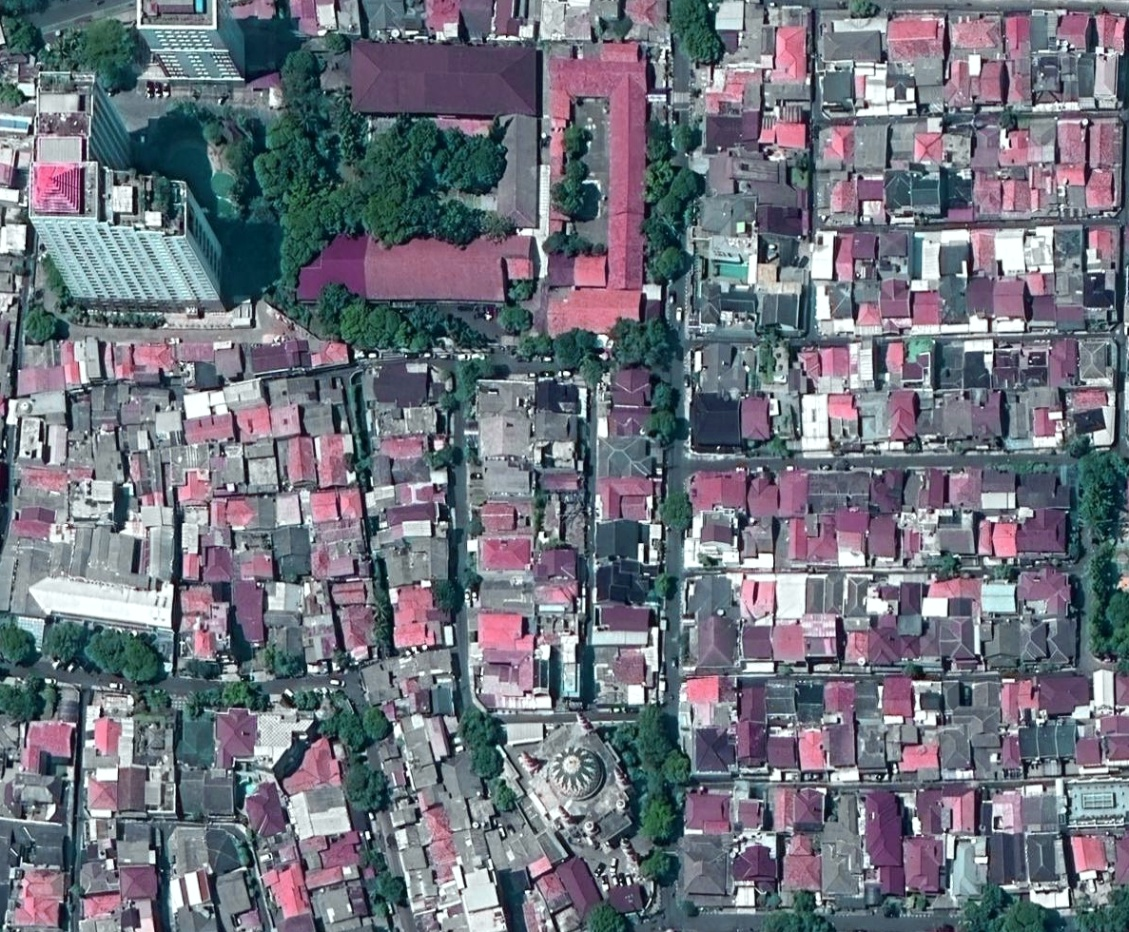building: (0, 28, 246, 366), (545, 43, 644, 290), (286, 222, 539, 315), (506, 709, 653, 865), (398, 817, 527, 932), (348, 44, 536, 115), (25, 566, 178, 629), (135, 1, 244, 81), (213, 690, 318, 771), (701, 147, 815, 215), (297, 830, 373, 931), (107, 381, 188, 463), (478, 811, 554, 892), (539, 736, 617, 813), (69, 525, 158, 592), (499, 724, 623, 771), (0, 537, 71, 619), (376, 518, 454, 589), (0, 817, 67, 895), (80, 681, 134, 773), (498, 116, 540, 228), (543, 290, 641, 338), (304, 519, 373, 587), (391, 585, 457, 654), (125, 695, 181, 775), (284, 782, 353, 846), (274, 736, 343, 797), (592, 647, 655, 711), (286, 372, 345, 437), (9, 867, 67, 932), (553, 853, 609, 920), (363, 362, 446, 407), (470, 650, 533, 708), (298, 578, 338, 669), (951, 682, 1002, 752), (176, 389, 238, 446), (884, 10, 945, 67), (237, 778, 291, 842), (676, 847, 733, 907), (678, 675, 740, 730), (819, 798, 863, 875), (693, 343, 758, 395), (456, 867, 508, 932), (695, 278, 758, 331), (978, 616, 1049, 663), (817, 10, 882, 61), (223, 382, 274, 447), (1003, 392, 1058, 451), (261, 861, 314, 922), (263, 582, 304, 660), (10, 341, 67, 397), (179, 602, 233, 661), (16, 718, 76, 771), (0, 772, 63, 822), (590, 563, 658, 609), (201, 819, 254, 877), (433, 749, 485, 808), (179, 768, 235, 822), (863, 792, 903, 867), (729, 836, 779, 896), (390, 648, 456, 693), (686, 512, 739, 568), (1066, 392, 1117, 450), (758, 28, 808, 87), (758, 100, 811, 154), (689, 393, 739, 450), (807, 470, 873, 513), (65, 479, 119, 531), (164, 821, 211, 880), (395, 714, 436, 779), (592, 478, 651, 523), (1025, 833, 1068, 894), (778, 835, 822, 894), (687, 472, 747, 515), (371, 405, 440, 442), (312, 433, 356, 491), (683, 791, 736, 839), (1014, 512, 1070, 557), (174, 709, 214, 772), (248, 338, 311, 378), (948, 835, 986, 901), (477, 417, 531, 463), (472, 381, 534, 421), (699, 193, 752, 239), (596, 523, 660, 561), (264, 378, 302, 442), (480, 458, 535, 502), (945, 10, 1001, 53), (597, 436, 653, 479), (18, 465, 94, 496), (1018, 573, 1074, 615), (589, 609, 654, 645), (476, 613, 534, 653), (232, 580, 266, 647), (689, 729, 736, 777), (904, 839, 944, 895), (416, 709, 456, 765), (912, 64, 954, 117), (272, 527, 311, 584), (533, 377, 587, 418), (682, 575, 732, 619), (114, 818, 157, 869), (810, 231, 851, 284), (140, 526, 176, 586), (476, 575, 534, 612), (733, 575, 778, 622), (1021, 785, 1066, 832), (357, 660, 402, 707), (228, 533, 273, 580), (1037, 677, 1091, 716), (213, 868, 255, 918), (814, 281, 852, 336), (476, 536, 531, 574), (1016, 473, 1072, 510), (757, 286, 801, 333), (989, 834, 1027, 888), (814, 125, 854, 176), (363, 1, 421, 36), (531, 822, 574, 869), (571, 249, 613, 297), (821, 844, 859, 897), (339, 603, 379, 653), (752, 206, 809, 241), (241, 443, 280, 494), (1029, 394, 1062, 454), (478, 500, 533, 536), (896, 735, 939, 781), (195, 498, 232, 551), (909, 118, 944, 174), (783, 349, 824, 396), (870, 628, 919, 667), (992, 278, 1026, 333), (279, 437, 314, 490), (1085, 118, 1122, 168), (855, 723, 888, 779), (291, 738, 347, 771), (933, 598, 974, 643), (1054, 272, 1086, 329), (824, 726, 857, 781), (167, 445, 209, 488), (76, 857, 120, 898), (130, 343, 175, 383), (1044, 615, 1082, 662), (289, 0, 336, 38), (817, 180, 854, 228), (492, 2, 540, 39), (1080, 337, 1116, 386), (970, 62, 1006, 111), (77, 893, 122, 932), (699, 620, 734, 670), (1086, 269, 1120, 320), (853, 122, 889, 170), (853, 66, 889, 114), (736, 723, 768, 777), (1069, 834, 1109, 877), (624, 1, 668, 40), (1002, 679, 1035, 731), (937, 724, 972, 773), (1046, 340, 1080, 390), (900, 343, 933, 394), (1051, 11, 1092, 52), (973, 397, 1003, 453), (208, 444, 242, 493), (533, 547, 578, 584), (1025, 271, 1053, 330), (857, 395, 890, 445), (764, 724, 797, 774), (914, 397, 945, 450), (961, 342, 993, 393), (909, 171, 944, 217), (801, 398, 830, 453), (94, 432, 123, 487), (879, 677, 916, 720), (837, 516, 869, 565), (804, 613, 838, 659), (943, 790, 977, 836), (609, 370, 651, 407), (970, 120, 1001, 170), (742, 519, 773, 569), (941, 62, 972, 112), (17, 388, 67, 419), (841, 618, 871, 669), (53, 337, 83, 388), (876, 284, 907, 333), (972, 172, 1004, 219), (805, 516, 835, 566), (227, 497, 271, 531), (817, 347, 848, 395), (944, 396, 970, 453), (908, 284, 937, 335), (934, 519, 975, 555), (327, 578, 373, 610), (818, 70, 853, 112), (878, 234, 908, 283), (888, 394, 918, 443), (939, 620, 974, 662), (870, 469, 903, 513), (1031, 58, 1060, 108), (458, 1, 496, 39), (939, 231, 969, 279), (1000, 124, 1032, 169), (884, 68, 916, 113), (390, 459, 450, 483), (118, 865, 158, 901), (1084, 169, 1119, 210), (850, 283, 877, 336), (1028, 166, 1056, 217), (1018, 341, 1047, 390), (989, 792, 1022, 835), (830, 396, 860, 443), (912, 685, 942, 732), (1065, 58, 1092, 110), (738, 624, 773, 664), (848, 343, 876, 393), (823, 682, 854, 727), (915, 791, 944, 839), (948, 469, 981, 511), (866, 518, 899, 560), (1053, 224, 1083, 270), (940, 282, 968, 331), (776, 474, 807, 518), (851, 681, 882, 725), (996, 228, 1025, 275), (943, 173, 972, 220), (771, 625, 805, 665), (763, 679, 796, 720), (307, 338, 348, 371), (117, 766, 147, 811), (910, 232, 938, 280), (1059, 121, 1088, 167), (876, 344, 903, 393), (424, 2, 457, 42), (379, 439, 436, 462), (1095, 53, 1120, 105), (1005, 60, 1031, 110), (533, 581, 581, 608), (792, 789, 827, 826), (1085, 226, 1119, 264), (590, 1, 622, 41), (1024, 226, 1053, 270), (533, 416, 582, 442), (396, 484, 445, 510), (86, 777, 117, 818), (849, 234, 876, 281), (383, 505, 438, 528), (739, 399, 769, 441), (797, 731, 825, 776), (175, 474, 213, 507), (197, 549, 235, 582), (968, 279, 992, 331), (88, 385, 117, 428), (882, 173, 913, 213), (796, 684, 824, 728), (737, 685, 765, 729), (704, 116, 741, 149), (924, 578, 977, 601), (606, 885, 644, 917), (993, 345, 1019, 391), (889, 124, 915, 170), (943, 125, 970, 169), (386, 799, 422, 832), (120, 899, 156, 932), (979, 581, 1016, 613), (334, 1, 365, 39), (736, 798, 767, 836), (182, 870, 212, 909), (775, 578, 802, 621), (747, 477, 776, 517), (274, 490, 303, 530), (54, 684, 83, 724), (972, 230, 997, 276), (771, 790, 796, 836), (1029, 122, 1057, 163), (16, 417, 42, 461), (856, 178, 883, 220), (45, 425, 72, 467), (938, 346, 962, 393), (1097, 14, 1126, 52), (919, 468, 944, 512), (884, 728, 915, 763), (565, 1, 592, 41), (74, 338, 98, 383), (173, 908, 218, 932), (990, 524, 1019, 561), (824, 573, 847, 619), (414, 782, 448, 813), (108, 342, 134, 382), (540, 2, 567, 40), (398, 842, 429, 875), (896, 581, 925, 616), (428, 679, 454, 718), (183, 585, 215, 616), (408, 761, 440, 792), (309, 490, 338, 524), (1006, 17, 1030, 57), (1029, 12, 1053, 52), (466, 795, 495, 828), (377, 742, 404, 777), (446, 797, 472, 833), (1091, 669, 1112, 713), (171, 345, 215, 366), (787, 518, 807, 564), (336, 487, 363, 521), (1003, 180, 1029, 215), (998, 737, 1021, 776), (66, 395, 89, 434), (367, 456, 395, 488), (65, 437, 91, 471), (547, 259, 576, 289), (848, 575, 869, 616), (215, 346, 241, 379), (1077, 740, 1106, 769), (137, 505, 172, 529), (877, 869, 905, 898), (1055, 725, 1078, 760), (979, 468, 1015, 490), (892, 615, 925, 639), (805, 576, 823, 619), (278, 912, 316, 932), (1035, 726, 1057, 760), (1113, 839, 1128, 887), (1106, 737, 1129, 767), (941, 682, 963, 713), (1018, 728, 1038, 761), (973, 754, 997, 781), (89, 819, 114, 844), (438, 753, 471, 771), (1101, 715, 1129, 736), (920, 636, 941, 664), (621, 499, 648, 520), (1114, 676, 1129, 713), (145, 781, 164, 810), (1057, 166, 1084, 184), (393, 828, 411, 851)
tree: (228, 107, 334, 219), (80, 621, 172, 693), (428, 128, 508, 202), (277, 176, 332, 283), (357, 115, 435, 190), (72, 14, 141, 93), (356, 185, 438, 248), (336, 301, 429, 356), (453, 704, 511, 782), (666, 0, 728, 71), (310, 180, 375, 247), (309, 87, 365, 164), (649, 167, 708, 230), (275, 47, 326, 116), (608, 317, 674, 367), (547, 157, 600, 219), (441, 347, 496, 406), (549, 328, 603, 387), (315, 709, 369, 764), (0, 675, 52, 728), (340, 760, 390, 815), (33, 31, 88, 80), (432, 198, 483, 250), (1074, 447, 1129, 494), (1071, 890, 1129, 932), (642, 241, 690, 289), (631, 706, 668, 766), (204, 168, 253, 213), (633, 795, 677, 845), (311, 282, 350, 338), (437, 311, 484, 357), (255, 645, 307, 685), (16, 305, 63, 347), (478, 775, 522, 819), (635, 848, 678, 891), (36, 255, 70, 307), (45, 622, 87, 664), (996, 901, 1051, 932), (356, 706, 396, 748), (641, 406, 682, 446), (972, 881, 1013, 921), (657, 747, 696, 788), (1, 20, 42, 57), (220, 137, 258, 176), (642, 158, 673, 205), (543, 232, 595, 260), (370, 583, 394, 642), (1076, 509, 1113, 546), (238, 193, 276, 229), (406, 302, 445, 337), (654, 494, 689, 533), (764, 912, 834, 931), (644, 380, 680, 415), (222, 682, 267, 710), (261, 281, 299, 314), (1079, 566, 1114, 601), (0, 629, 34, 664), (284, 301, 322, 332), (642, 122, 670, 163), (959, 903, 998, 932), (586, 904, 626, 932), (642, 216, 669, 257), (478, 209, 512, 241), (375, 872, 404, 909), (495, 306, 534, 333), (0, 77, 29, 113), (513, 335, 554, 360), (1080, 488, 1115, 516), (37, 684, 61, 724), (562, 125, 588, 161), (182, 658, 218, 684), (134, 687, 172, 710), (61, 302, 91, 331), (183, 689, 222, 711), (600, 724, 633, 750), (1106, 593, 1129, 629), (1, 1, 46, 18), (649, 574, 675, 603), (766, 434, 793, 461), (506, 282, 535, 306), (291, 110, 316, 136), (138, 308, 163, 333), (199, 122, 223, 148), (437, 581, 461, 607), (364, 849, 388, 875), (644, 771, 668, 796), (624, 764, 648, 789), (1091, 546, 1115, 571), (1108, 627, 1128, 657), (792, 891, 818, 914), (760, 347, 778, 380), (673, 124, 694, 152), (232, 110, 256, 134), (457, 440, 481, 464), (460, 516, 484, 540), (292, 690, 318, 710), (1066, 437, 1089, 459), (436, 445, 460, 465), (321, 34, 346, 53), (88, 311, 110, 332), (461, 567, 483, 588), (367, 901, 389, 922), (1087, 634, 1108, 656), (996, 109, 1018, 130), (989, 563, 1014, 581), (437, 390, 458, 411), (938, 555, 957, 576), (1087, 613, 1107, 632), (121, 313, 142, 330), (1089, 596, 1107, 615), (619, 751, 637, 769), (764, 330, 782, 348), (680, 206, 696, 226), (681, 903, 701, 919), (329, 651, 346, 669), (329, 689, 347, 706), (106, 313, 125, 329), (849, 0, 869, 14), (882, 903, 898, 919), (696, 552, 711, 568), (436, 370, 450, 383), (914, 898, 927, 911), (1116, 662, 1129, 675), (1086, 624, 1098, 638), (342, 453, 354, 466)
